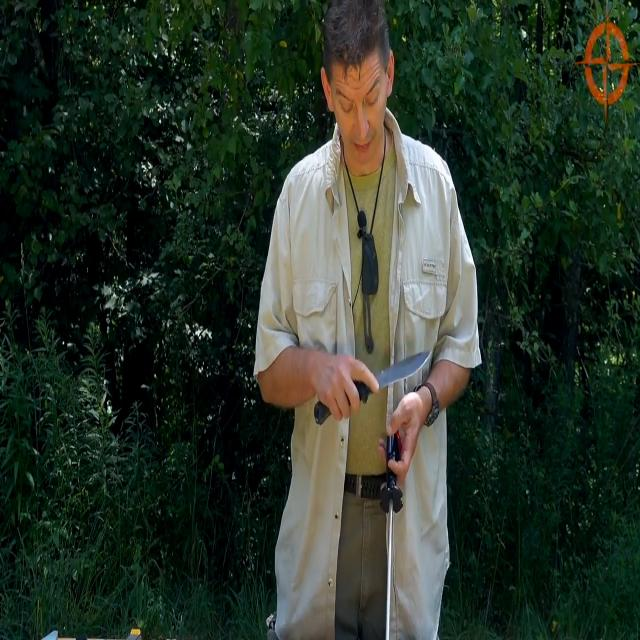knife: (372, 350, 436, 397)
